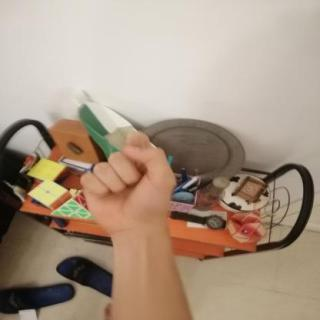FAA: (65, 125, 187, 241)
